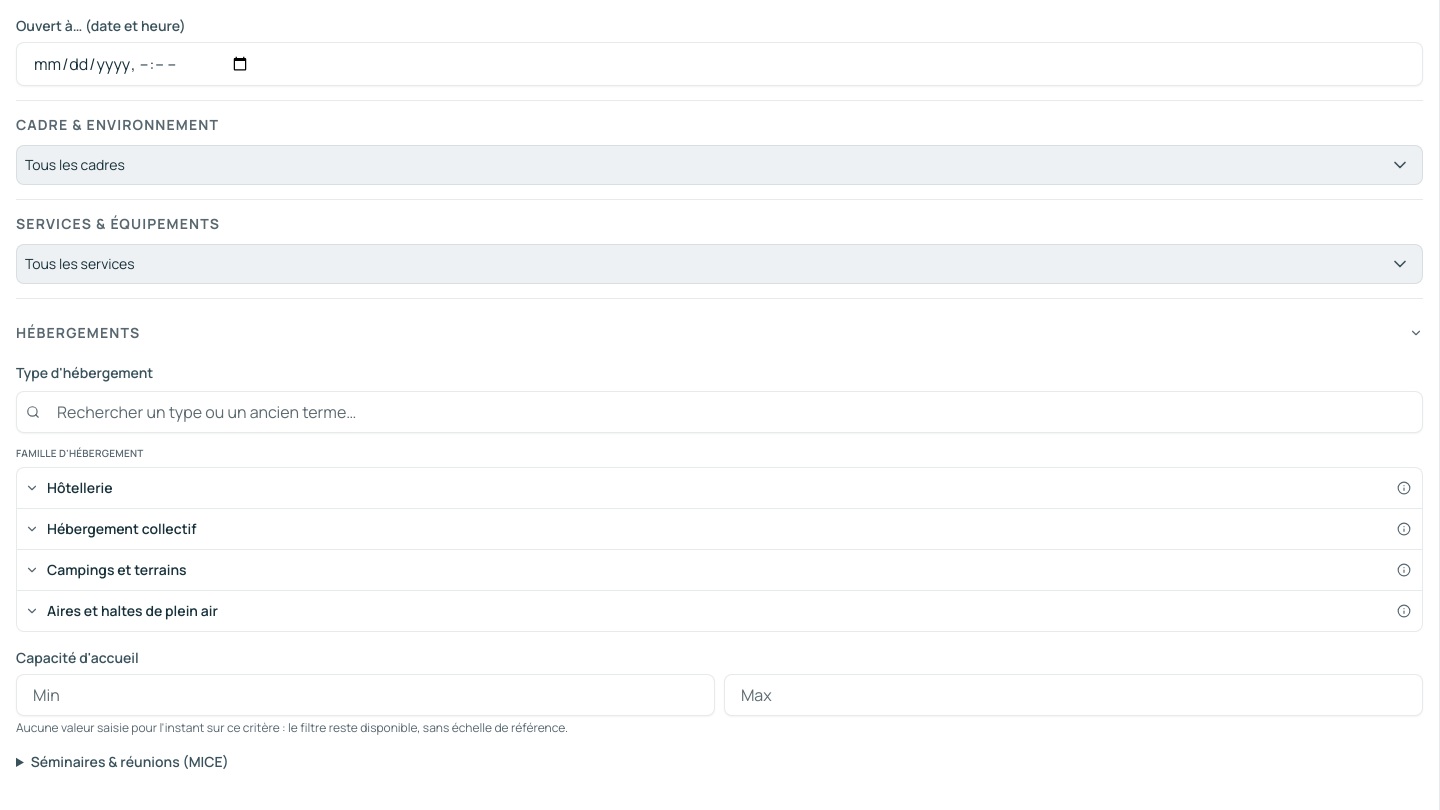
FiltersPanel — sections type-spécifiques repliables › §201 — hiérarchie v2 des hébergements › révèle le chemin parent quand la recherche correspond à un sous-type
(page scrolled)
Type "à la ferme" into the field named "Rechercher un type d'hébergement". click: (720, 412)
box: left=16, top=391, right=1423, bottom=433
(page scrolled)
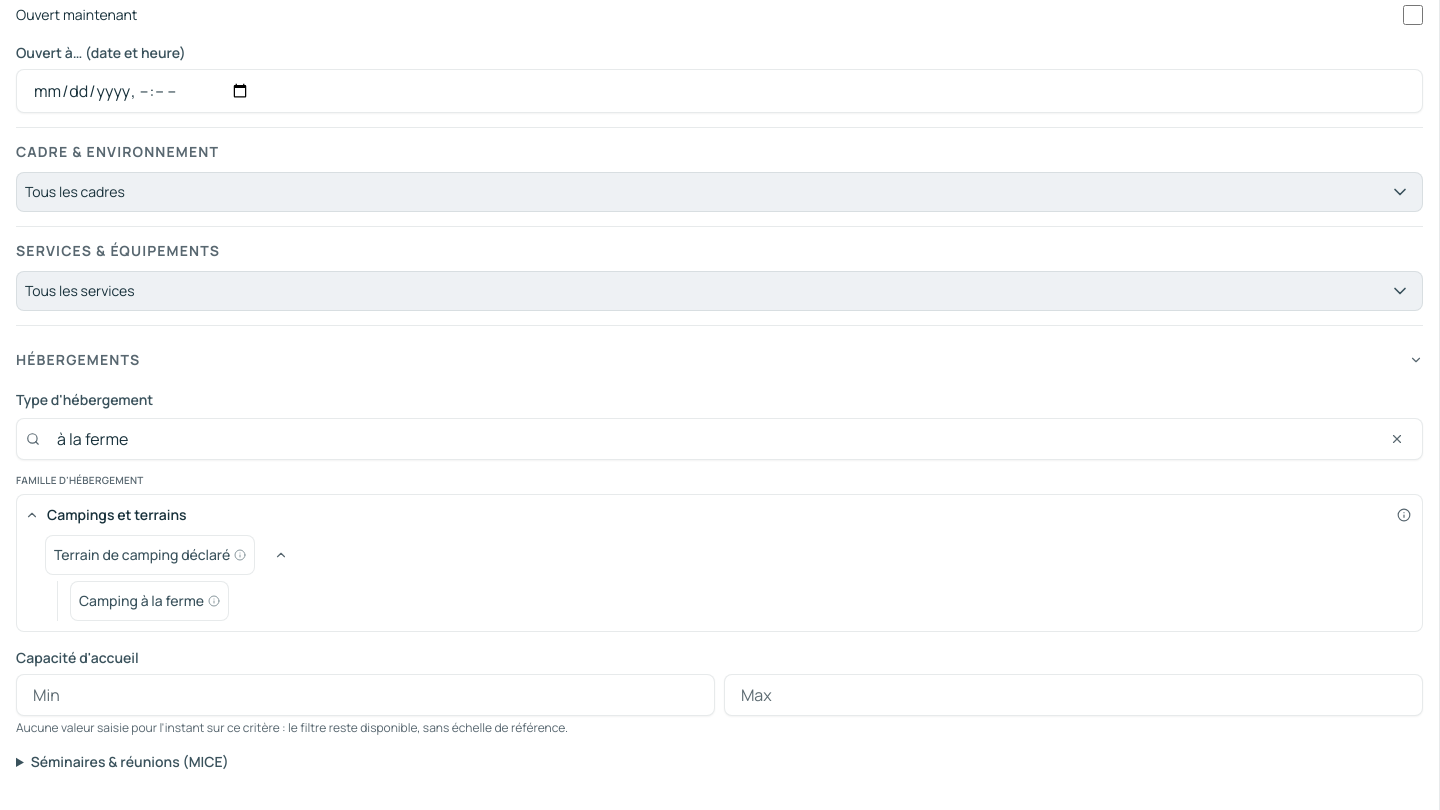
Result: the button "Terrain de camping déclaré" is shown at left=45, top=535, right=255, bottom=575
Result: the button "Camping à la ferme" is shown at left=70, top=581, right=229, bottom=621
